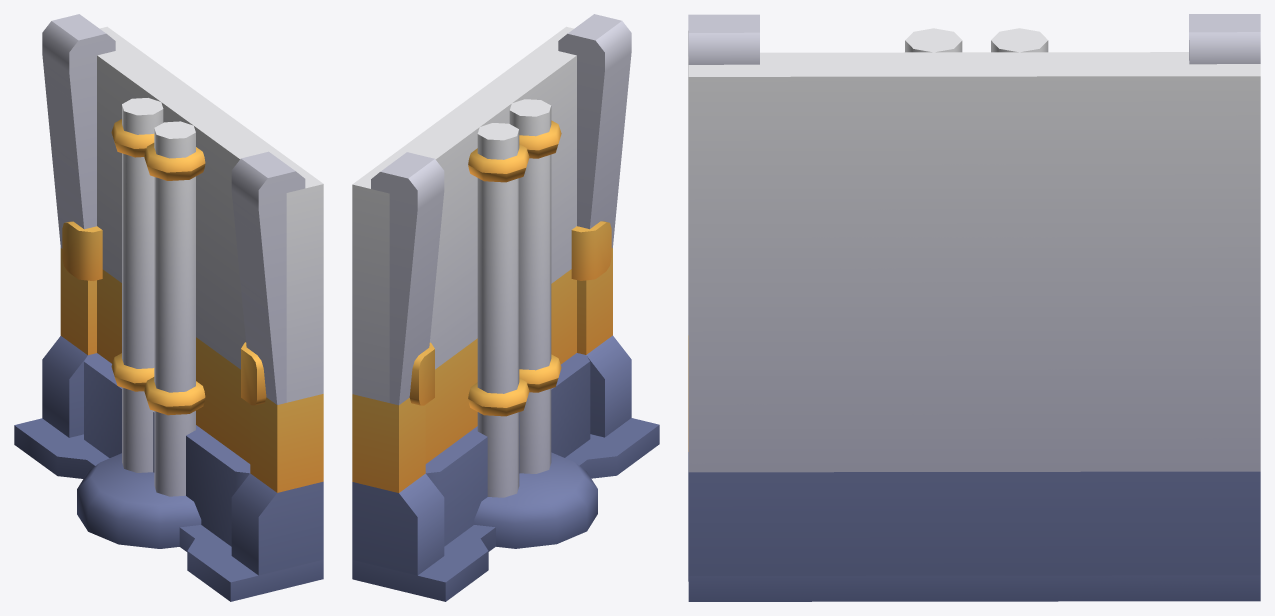
File: template-wall-detail-a.006_lev4.glb
3 renders of one model, left to right at view 1: azimuth 30°, elevation 25°; view 2: azimuth 150°, elevation 25°; view 3: azimuth 270°, elevation 25°, orthographic. The views are drawn at different scales.
Parts seen in each view (by area): view 1: template-wall-detail-a.006_lev4; view 2: template-wall-detail-a.006_lev4; view 3: template-wall-detail-a.006_lev4.
Boxes of the visible parts, x1,y1,x2,y2 form: template-wall-detail-a.006_lev4: (14, 14, 323, 601); template-wall-detail-a.006_lev4: (352, 14, 659, 601); template-wall-detail-a.006_lev4: (688, 14, 1260, 601).
Size of the model in its own units: 4.13 by 12.75 by 12.01.
1 material, 1 textured.
